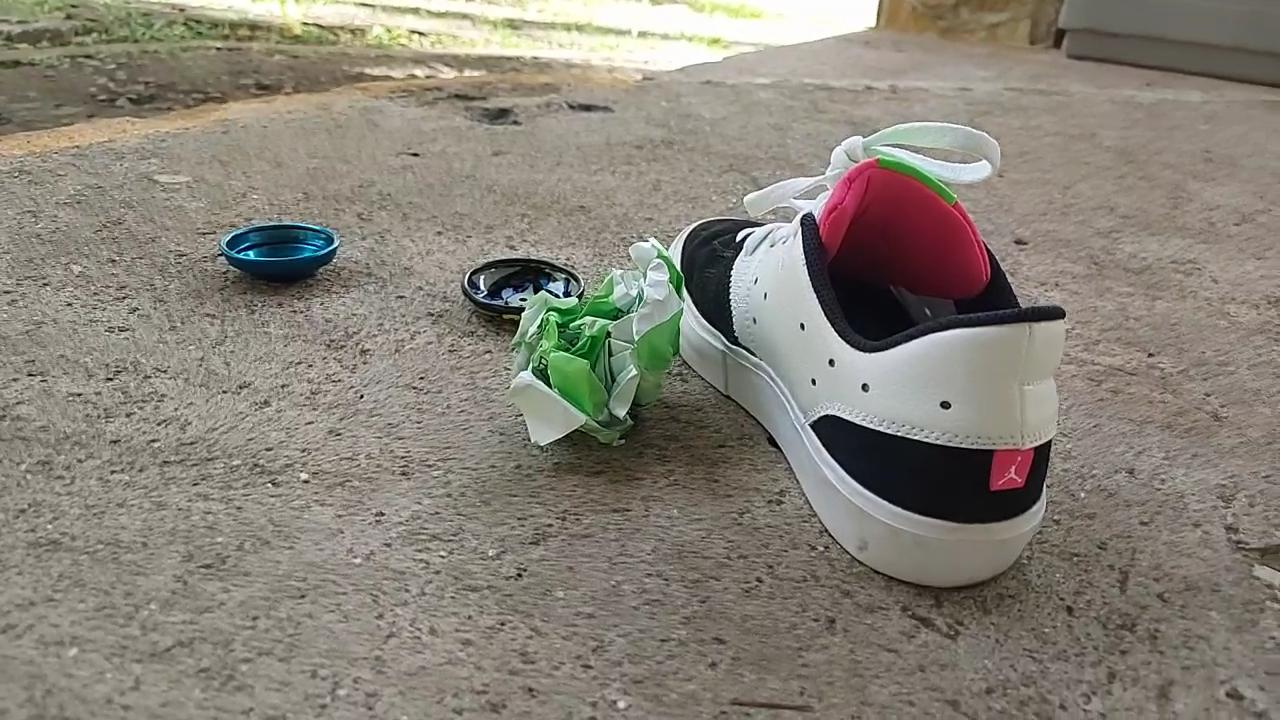paper: (509, 239, 681, 444)
